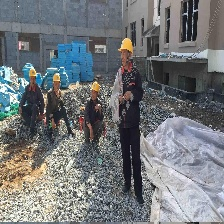helmet: (117, 37, 136, 57), (90, 79, 100, 96), (26, 65, 37, 78), (53, 73, 63, 86)
no-vest: (115, 70, 147, 108), (80, 97, 104, 121), (24, 85, 45, 105), (47, 88, 63, 114)
person: (111, 35, 147, 207), (45, 72, 77, 144), (80, 78, 106, 151), (18, 66, 45, 135)
